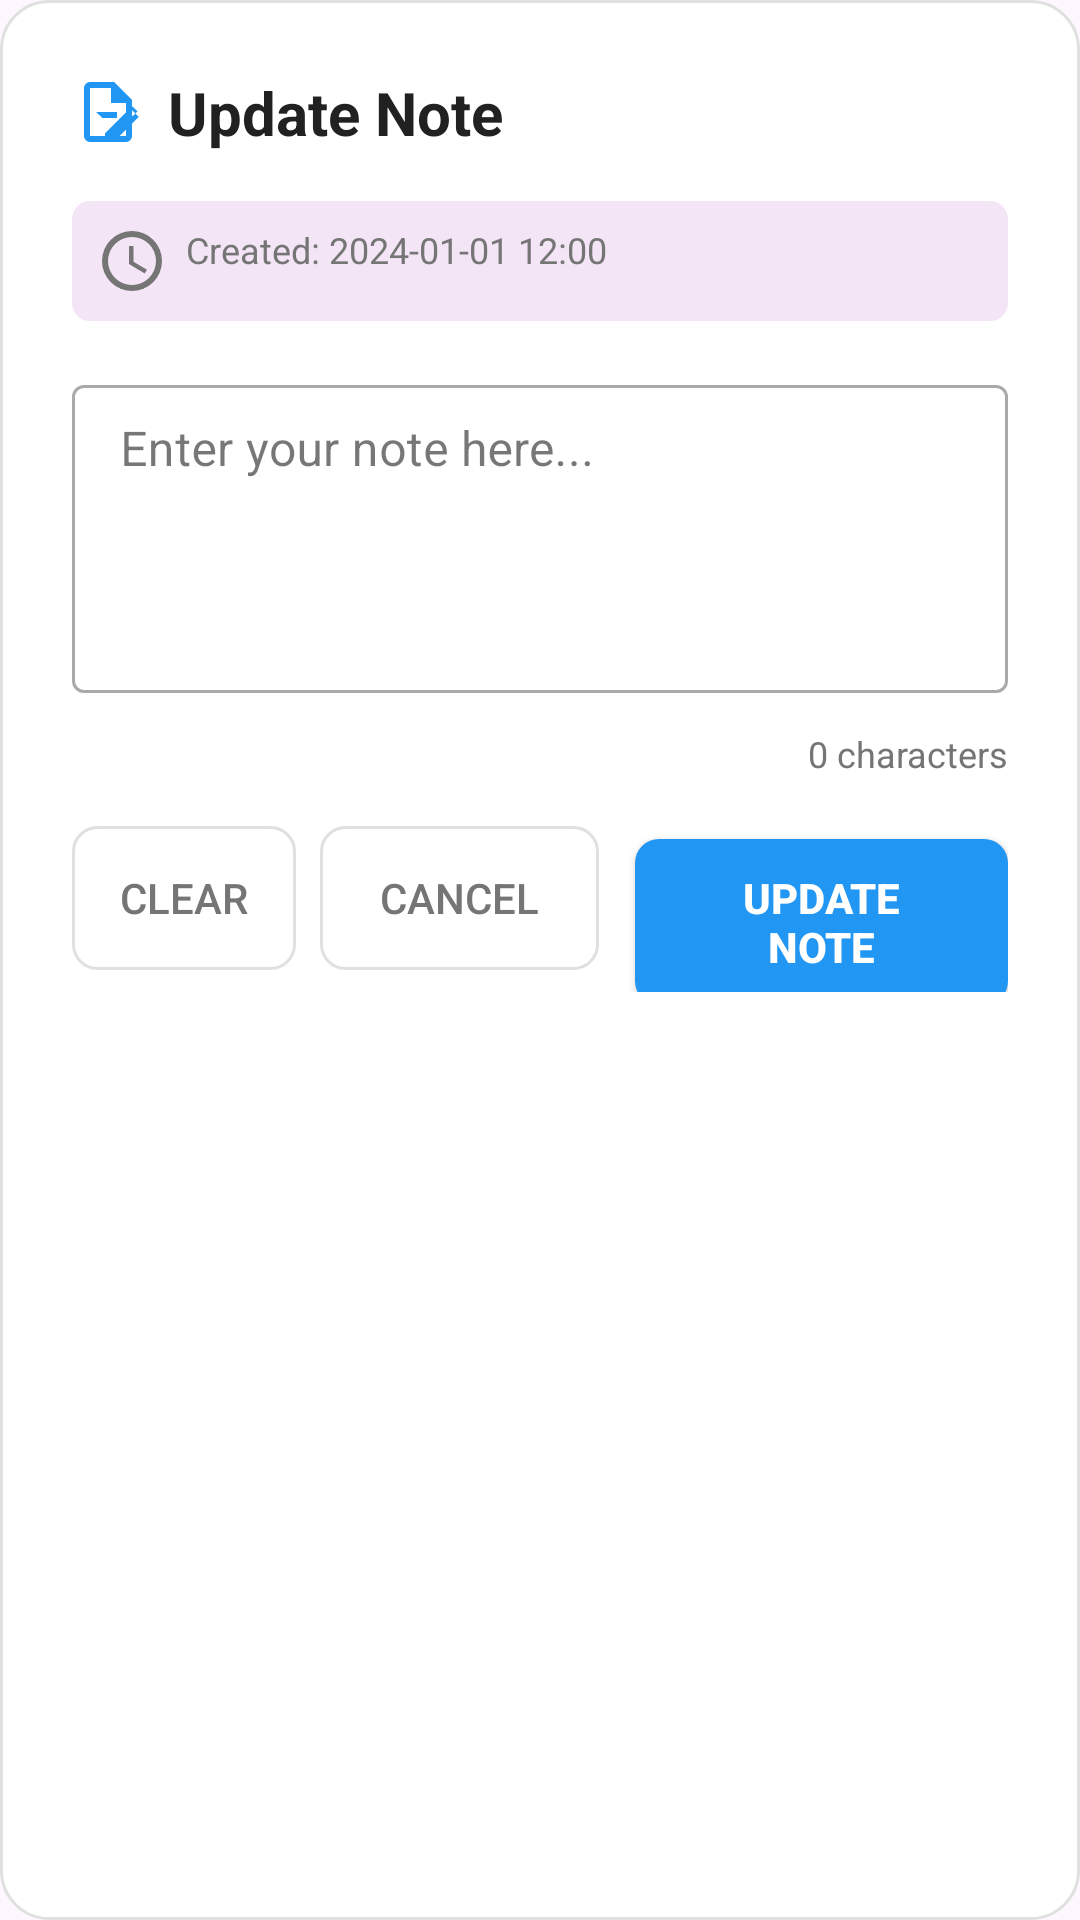

Named icons in this screenshot (1080*1920) and their bounding boxes, (x1, y1, x2, y2):
edit note: (84, 82, 139, 142)
